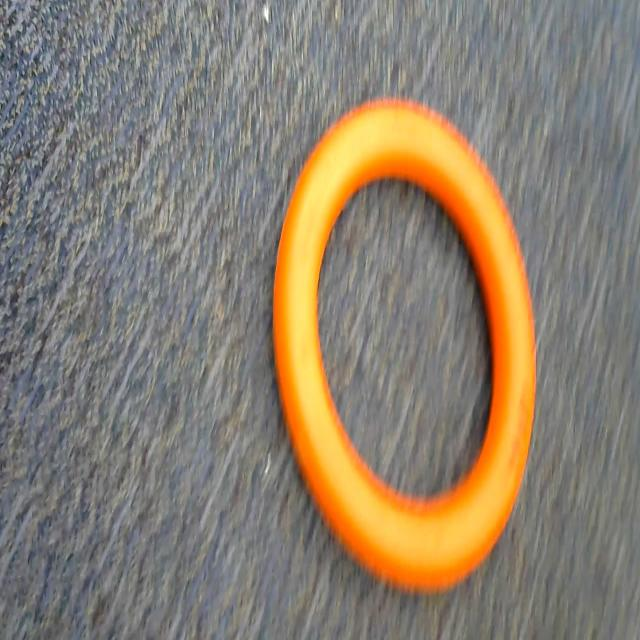note: (255, 57, 583, 608), (240, 39, 580, 561)
